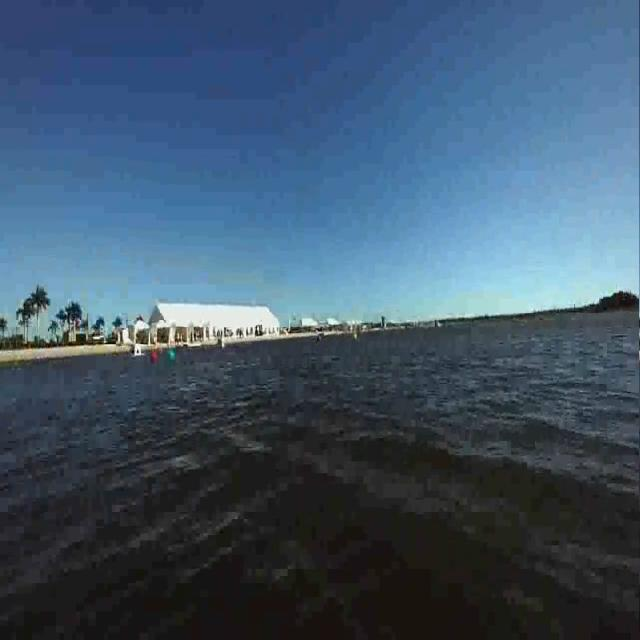green-buoy: (164, 346, 177, 367)
red-buoy: (150, 350, 160, 367)
